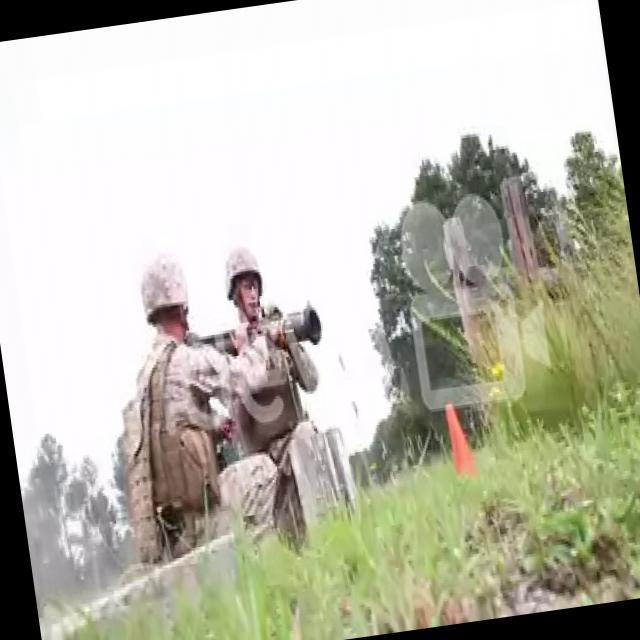rocket: (218, 303, 326, 359)
